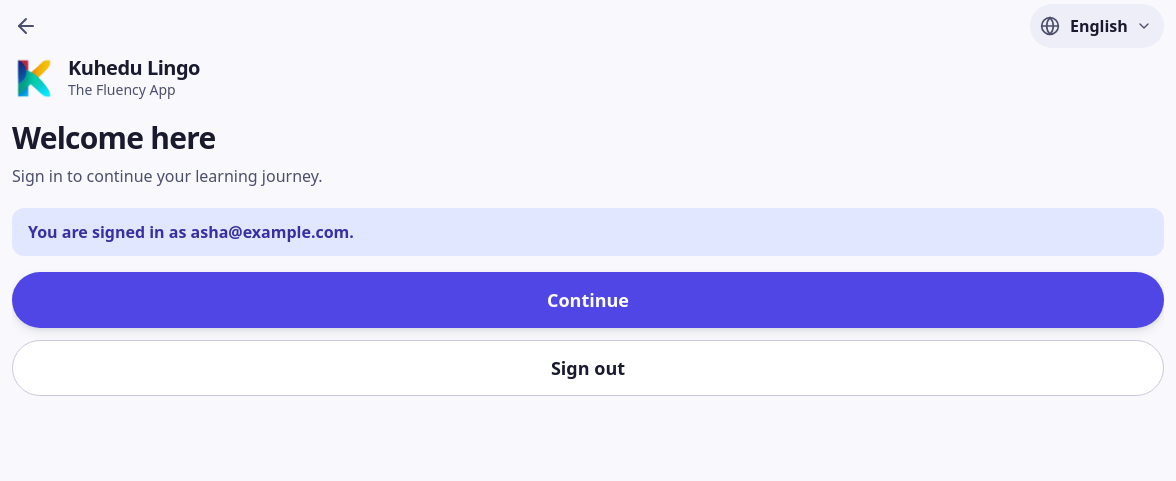
someone already signed in › stays signed in, and says so, when the server could not be told of the sign-out
Click the button "Sign out". click: [588, 368]
box: [12, 340, 1164, 396]
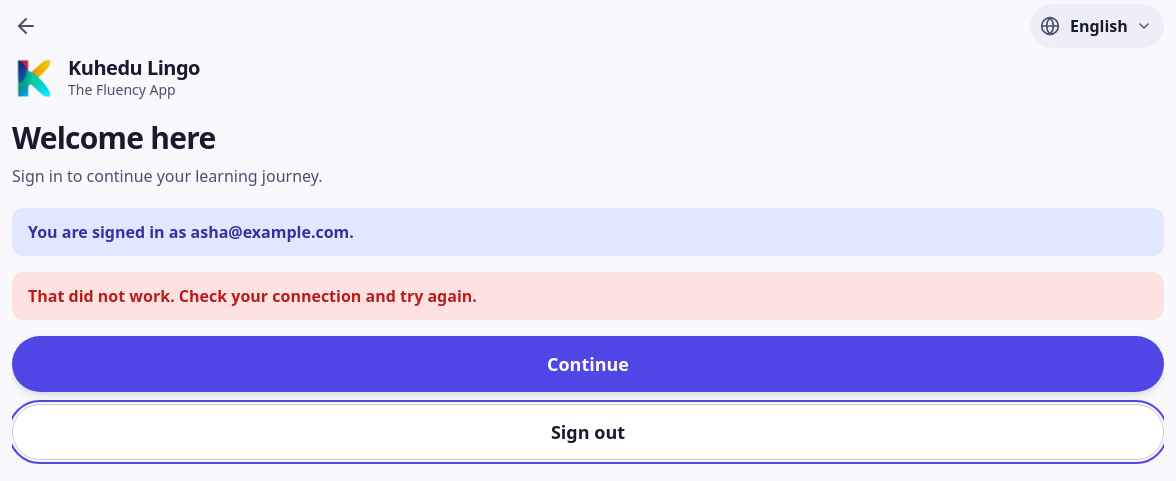
Result: the message shows "That did not work." at [28, 285, 477, 307]
